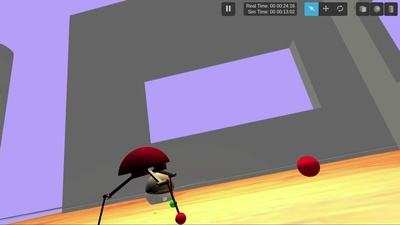mira_robot: (146, 172, 173, 205)
